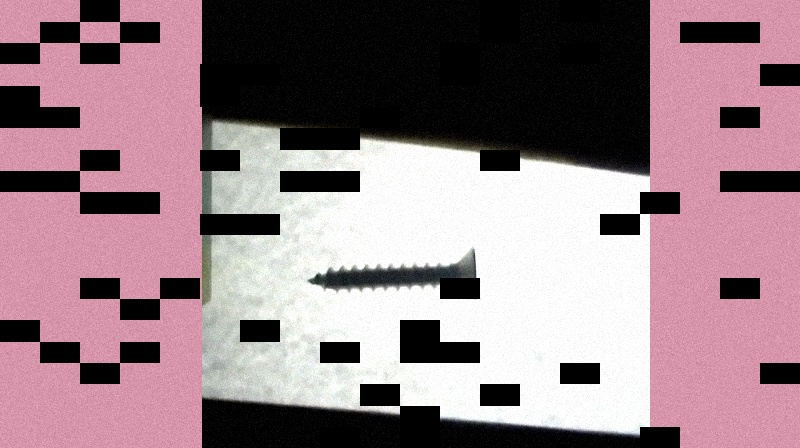S001: (304, 245, 481, 299)
